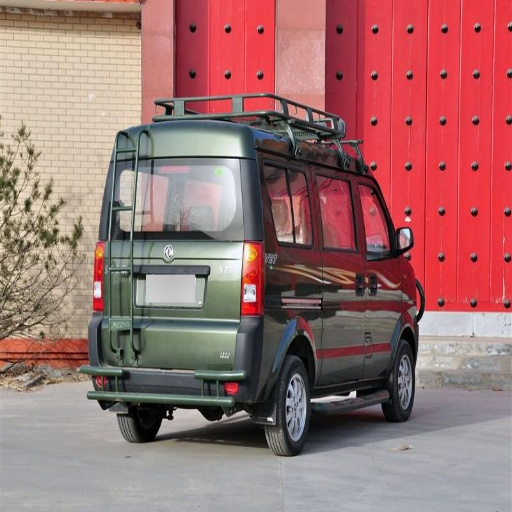back_right_door: (319, 269, 361, 379)
tailgate: (107, 208, 132, 309)
trunk: (100, 161, 312, 395)
